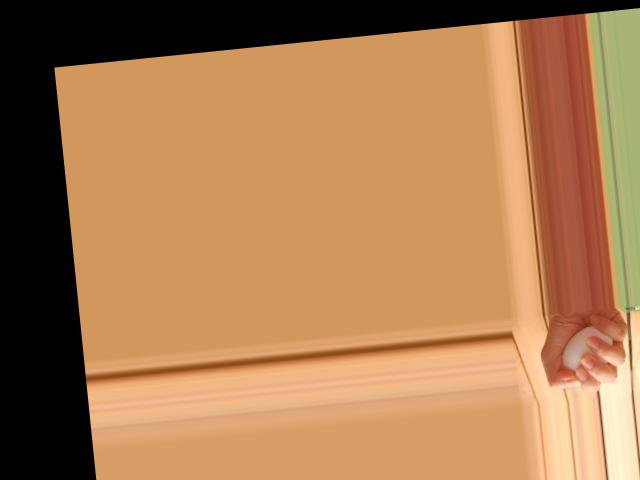egg: (559, 323, 616, 376)
